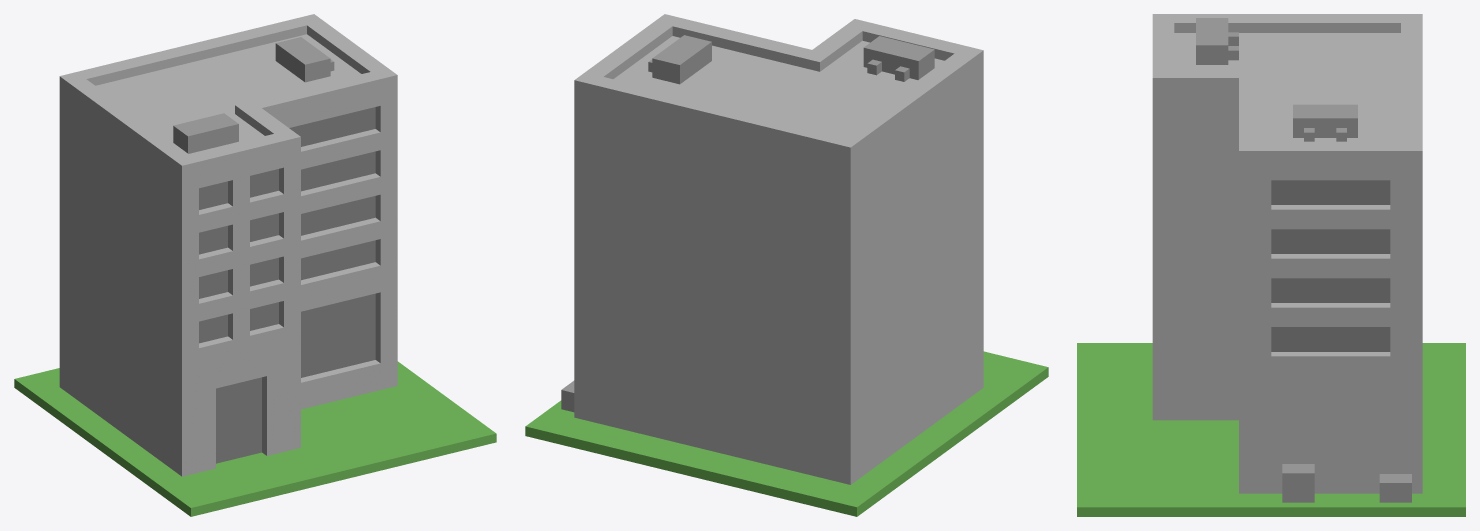
The picture shows the model from 3 angles, left to right: view 1: azimuth 30°, elevation 25°; view 2: azimuth 150°, elevation 25°; view 3: azimuth 270°, elevation 25°; orthographic projection. The views are drawn at different scales.
Visible parts, largest first — view 1: 3; view 2: 3; view 3: 3.
Part boxes in pixels (bbox=[...]): 3: bbox=[14, 14, 496, 516]; 3: bbox=[525, 14, 1048, 516]; 3: bbox=[1077, 14, 1465, 516].
Bounding box in the file's own units: 900 × 925 × 900.
